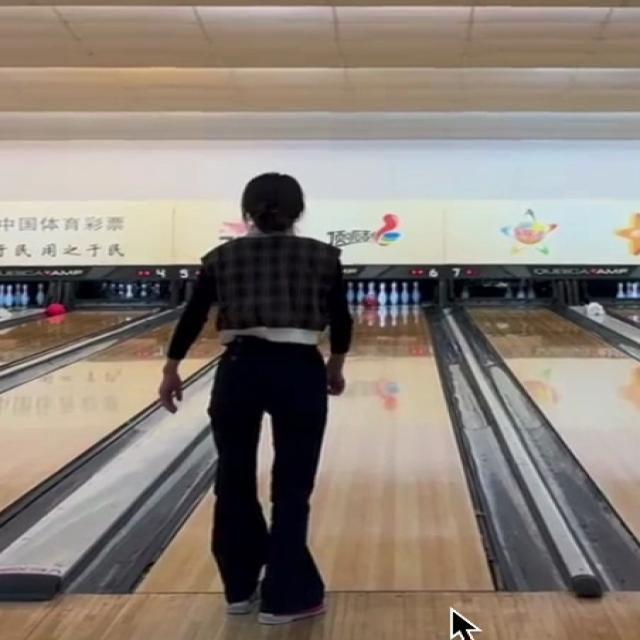alley: (310, 305, 491, 591), (139, 496, 219, 594)
balls: (362, 294, 378, 310)
bottle: (347, 281, 422, 305)
